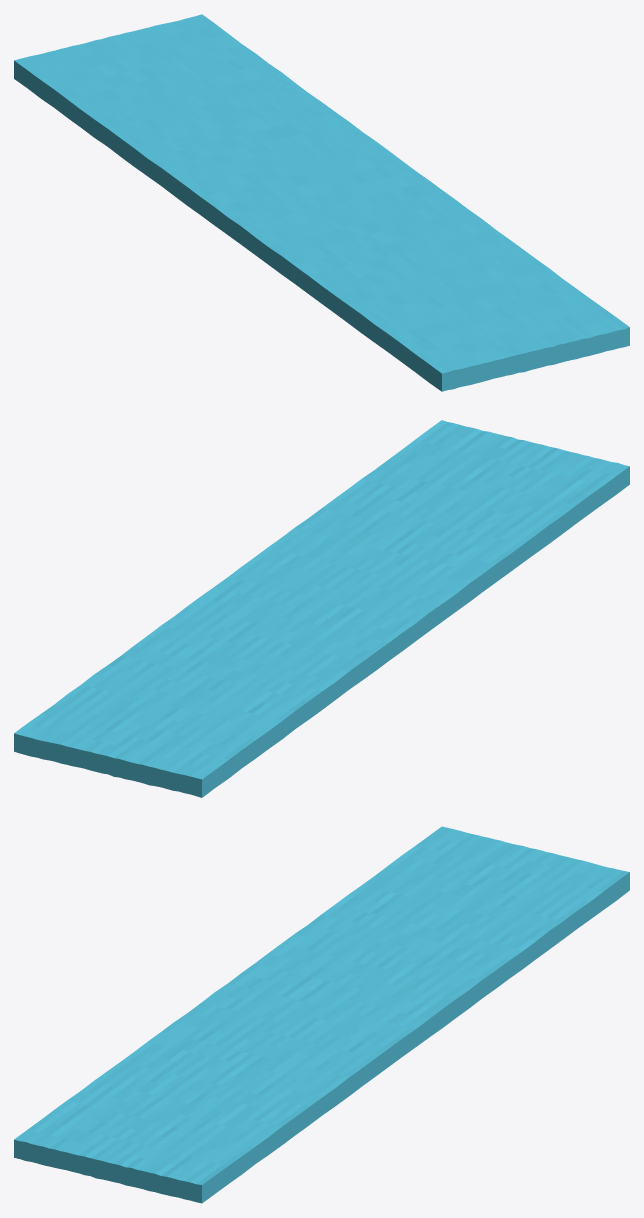
The model's file is Water.fbx.
3 views of the same model, one above another, from view 1: azimuth 30°, elevation 25°; view 2: azimuth 150°, elevation 25°; view 3: azimuth 330°, elevation 25° (orthographic).
Parts seen in each view (by area): view 1: Water_good; view 2: Water_good; view 3: Water_good.
Boxes of the visible parts, <box> form: Water_good: <box>14,14,629,391</box>; Water_good: <box>14,420,629,797</box>; Water_good: <box>14,826,629,1203</box>.
Size of the model in its own units: 806 by 80.55 by 3174.
